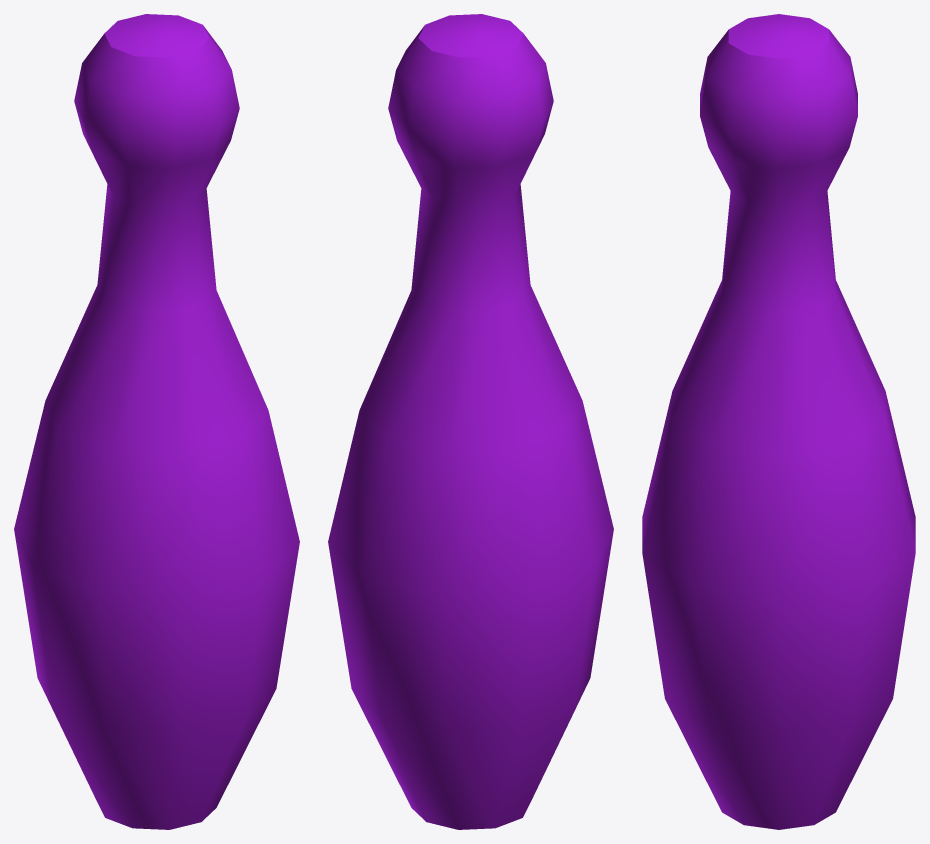
File: pin.fbx
3 renders of one model, left to right at view 1: azimuth 30°, elevation 25°; view 2: azimuth 150°, elevation 25°; view 3: azimuth 270°, elevation 25°, orthographic.
Parts seen in each view (by area): view 1: Cylinder014; view 2: Cylinder014; view 3: Cylinder014.
Boxes of the visible parts, <box> form: Cylinder014: <box>14,14,299,829</box>; Cylinder014: <box>328,14,613,829</box>; Cylinder014: <box>642,14,915,829</box>.
Size of the model in its own units: 9.02 by 26.93 by 8.58.
